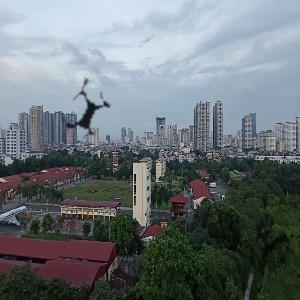drone: (38, 64, 134, 160)
